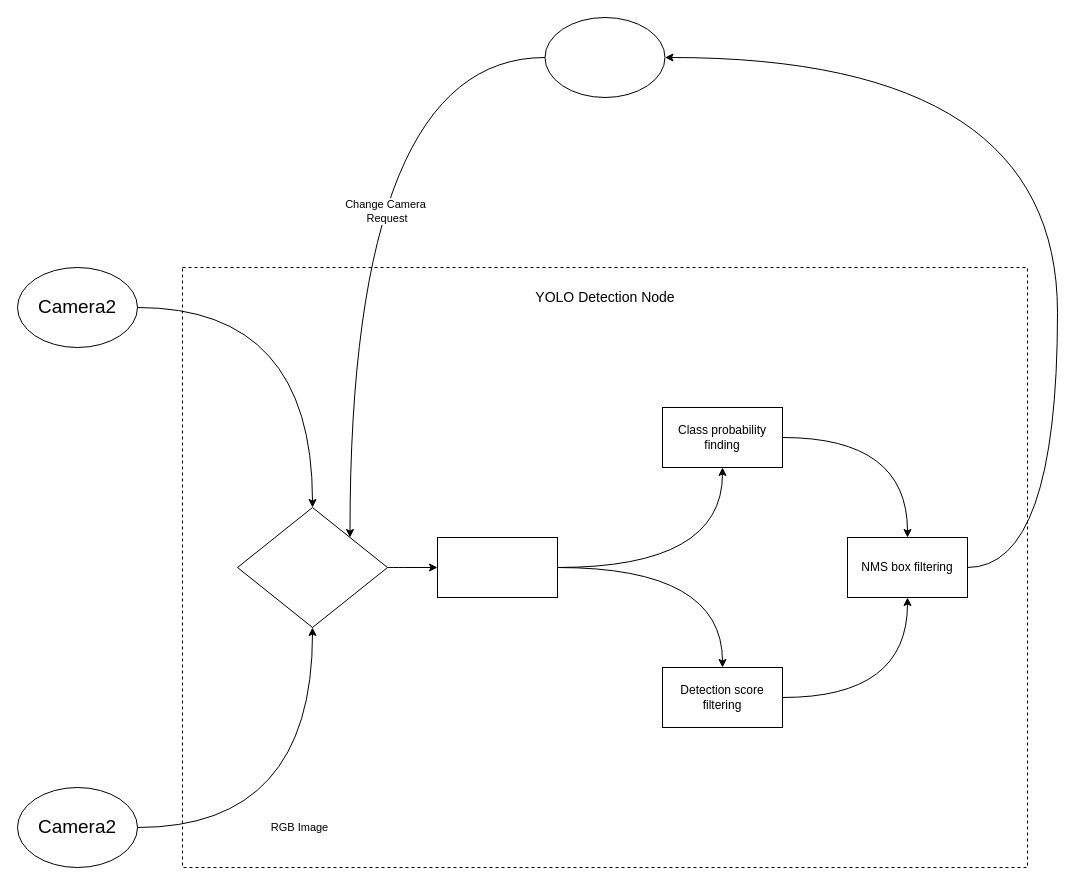
Some shapes in this 1075 by 885 pixel diagram are drawn without their labels. Here are the shapes that lost their labels. From the top down, the centre of each, then its label:
At [604,57]: "UserNode".
At [312,567]: "Camera Switching Service".
At [497,567]: "YOLO Detection".
